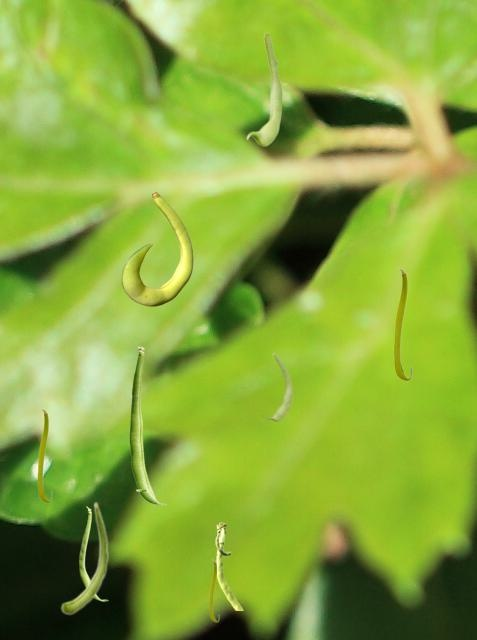french_bean: (121, 192, 192, 305), (129, 346, 166, 504), (60, 501, 108, 614), (246, 32, 281, 145), (79, 506, 107, 600), (215, 522, 242, 609), (261, 352, 292, 420), (393, 267, 411, 380), (37, 408, 51, 502), (209, 559, 218, 621)
